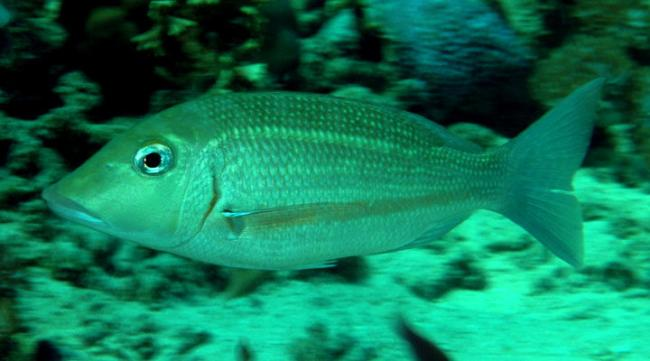fish: (42, 76, 606, 272)
